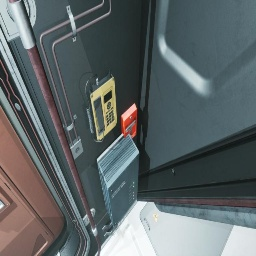EmergencyPhone ,: (85, 70, 117, 142)
FireAlarm ,: (121, 103, 137, 139)
